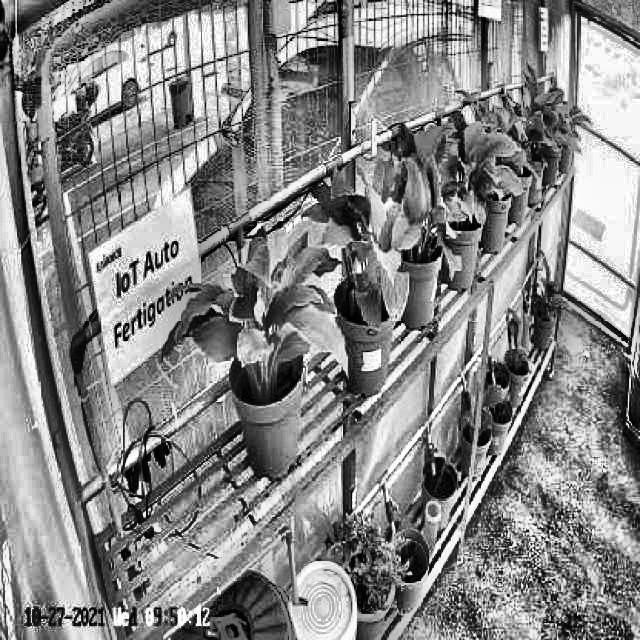plants: (161, 230, 345, 398), (363, 120, 462, 297), (305, 180, 410, 334), (424, 105, 526, 224)
